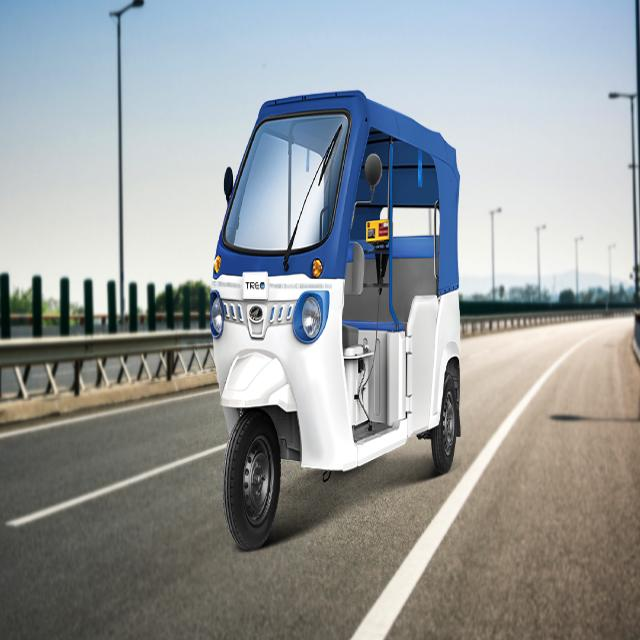autorickshaw: (211, 91, 460, 548)
